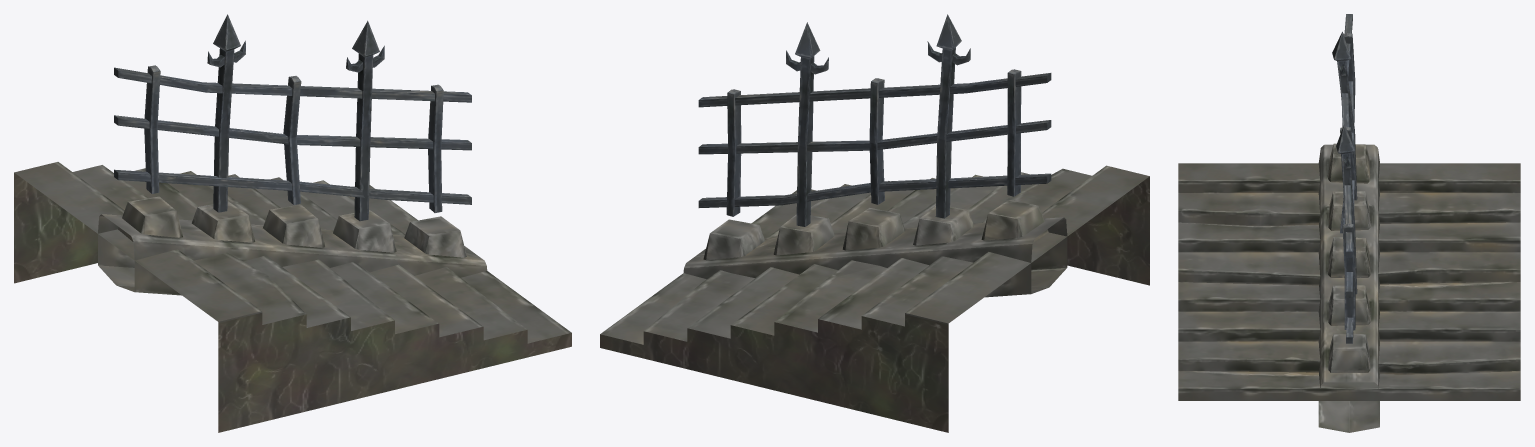
File: Stairs_low_handrail_center.obj
The picture shows the model from 3 angles, left to right: view 1: azimuth 30°, elevation 25°; view 2: azimuth 150°, elevation 25°; view 3: azimuth 270°, elevation 25°; orthographic projection. The views are drawn at different scales.
Visible parts, largest first — view 1: Stairs_low_handrail_center; view 2: Stairs_low_handrail_center; view 3: Stairs_low_handrail_center.
Part boxes in pixels (x1,y1,x2,y2): Stairs_low_handrail_center: (14, 14, 571, 432); Stairs_low_handrail_center: (600, 14, 1149, 432); Stairs_low_handrail_center: (1178, 14, 1520, 432).
Bounding box in the file's own units: 10 × 9.71 × 10.
